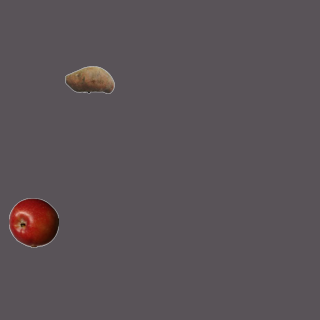Apple Braeburn: (8, 197, 58, 247)
Potato Sweet: (64, 54, 114, 104)
